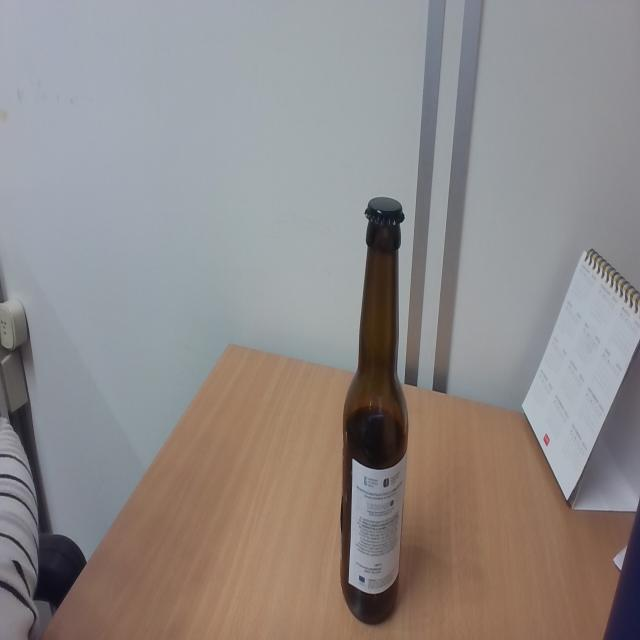Bottle: (341, 195, 408, 622)
Cap: (362, 196, 408, 228)
Label: (350, 459, 402, 592)
